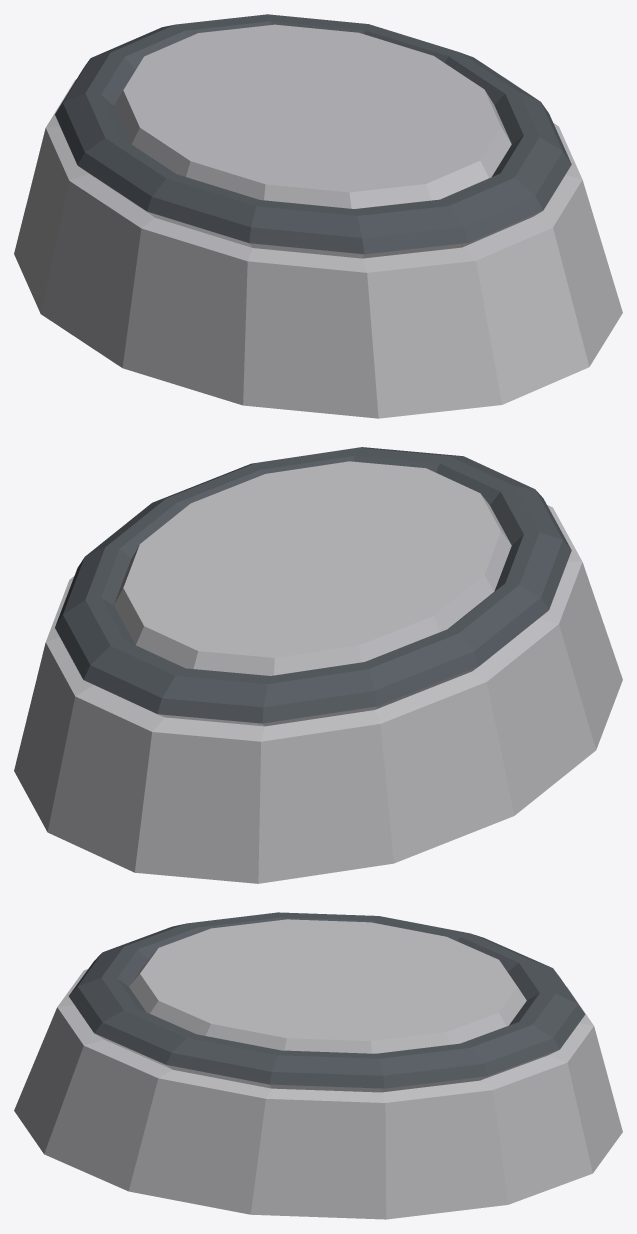
Rendered from Fighter_05_Body_Hatch.fbx.
3 views of the same model, one above another, from view 1: azimuth 30°, elevation 25°; view 2: azimuth 150°, elevation 25°; view 3: azimuth 270°, elevation 25° (orthographic). The views are drawn at different scales.
Visible parts, largest first — view 1: Fighter_05_Body_Hatch; view 2: Fighter_05_Body_Hatch; view 3: Fighter_05_Body_Hatch.
Part boxes in pixels (<box>): Fighter_05_Body_Hatch: <box>14,14,622,418</box>; Fighter_05_Body_Hatch: <box>14,447,622,883</box>; Fighter_05_Body_Hatch: <box>14,912,622,1219</box>.
Bounding box in the file's own units: 177 × 68.16 × 237.
1 material, 1 textured.
